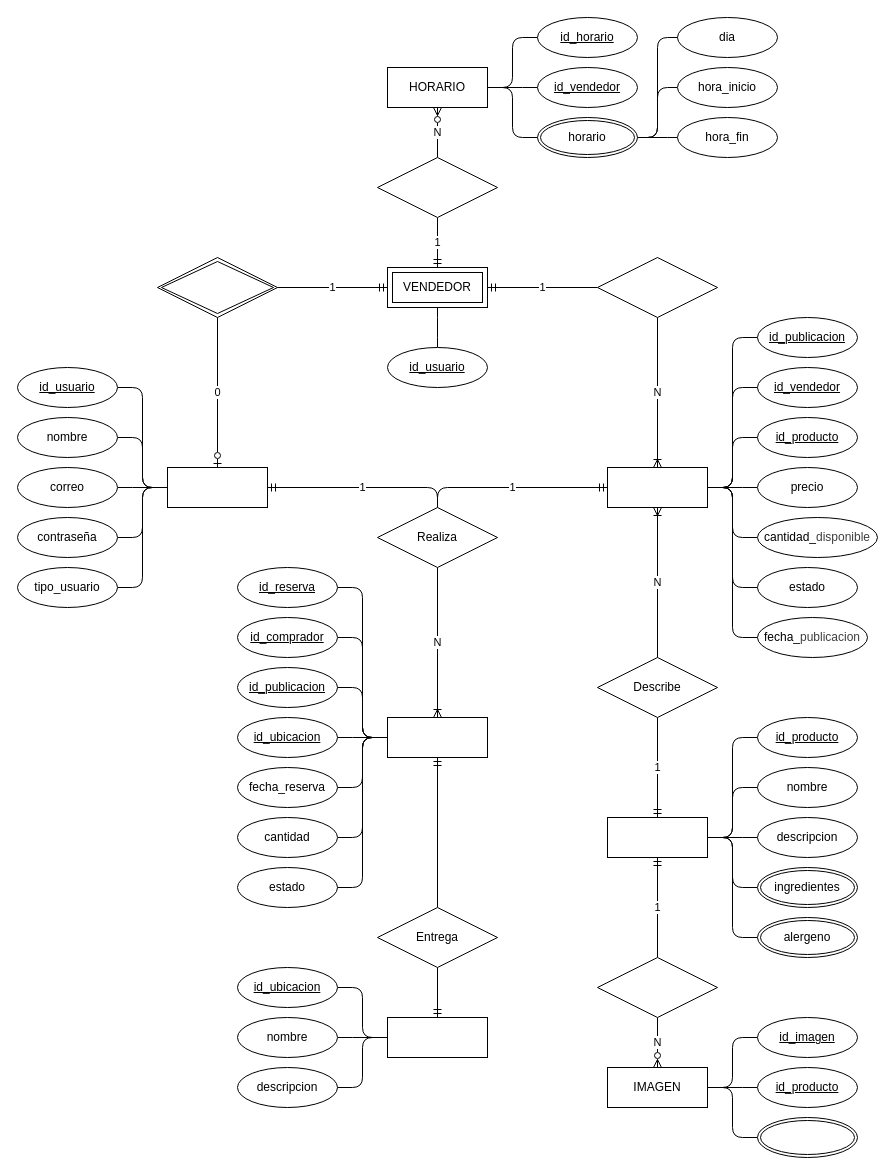
Image size: 895x1175. Some labels were removed from this diagram. The centre of each missing label's shape, as x and y in pixels:
"archivo" belongs at (x=807, y=1137).
"Desempeña" belongs at (x=217, y=287).
"PRODUCTO" belongs at (x=657, y=837).
"Promociona" belongs at (x=657, y=287).
"PUBLICACION" belongs at (x=657, y=487).
"Representa" belongs at (x=657, y=987).
"RESERVA" belongs at (x=437, y=737).
"Trabaja" belongs at (x=437, y=187).
"UBICACION" belongs at (x=437, y=1037).
"USUARIO" belongs at (x=217, y=487).
